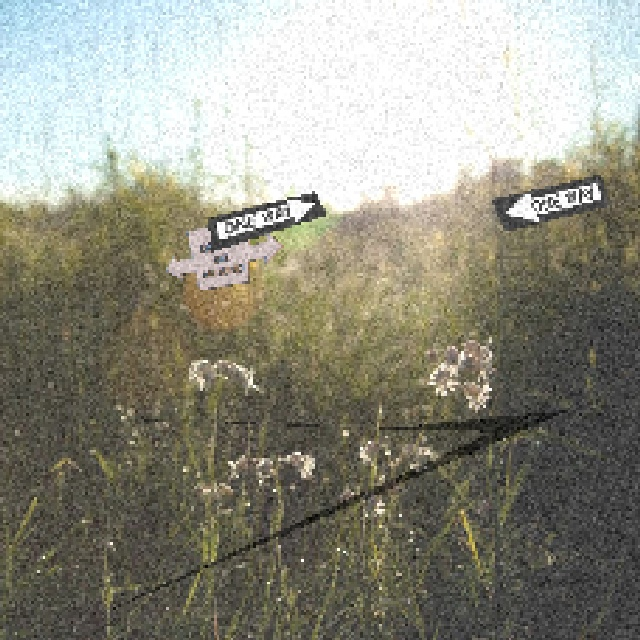DO_NOT_GO_AROUND: (163, 213, 282, 289)
ONE_WAY_ left: (489, 172, 608, 230)
ONE_WAY_ right: (206, 189, 325, 250)
